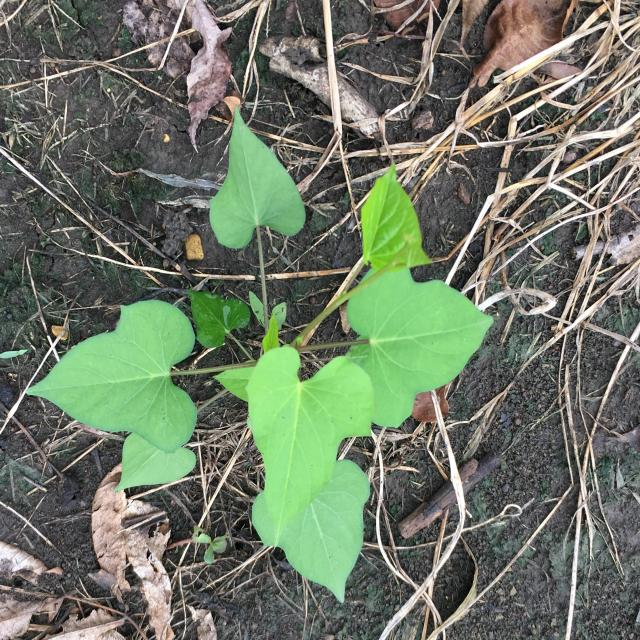MorningGlory: (26, 103, 494, 602)
